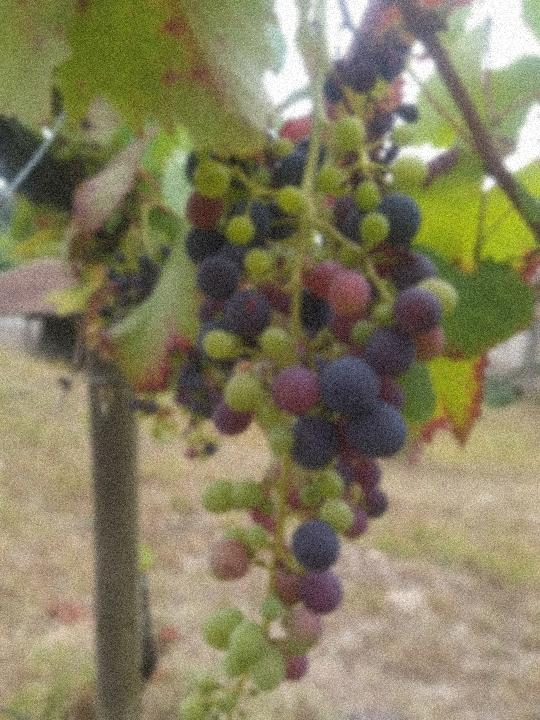grape: (174, 25, 462, 720)
